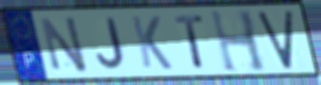H: (208, 8, 270, 75)
J: (95, 16, 127, 71)
K: (128, 14, 174, 71)
N: (38, 14, 91, 74)
T: (173, 13, 207, 70)
V: (255, 8, 294, 71)
